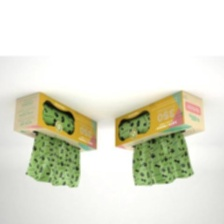book: (109, 86, 210, 156), (9, 88, 103, 157)
tissue: (126, 127, 199, 190), (22, 128, 84, 193)
